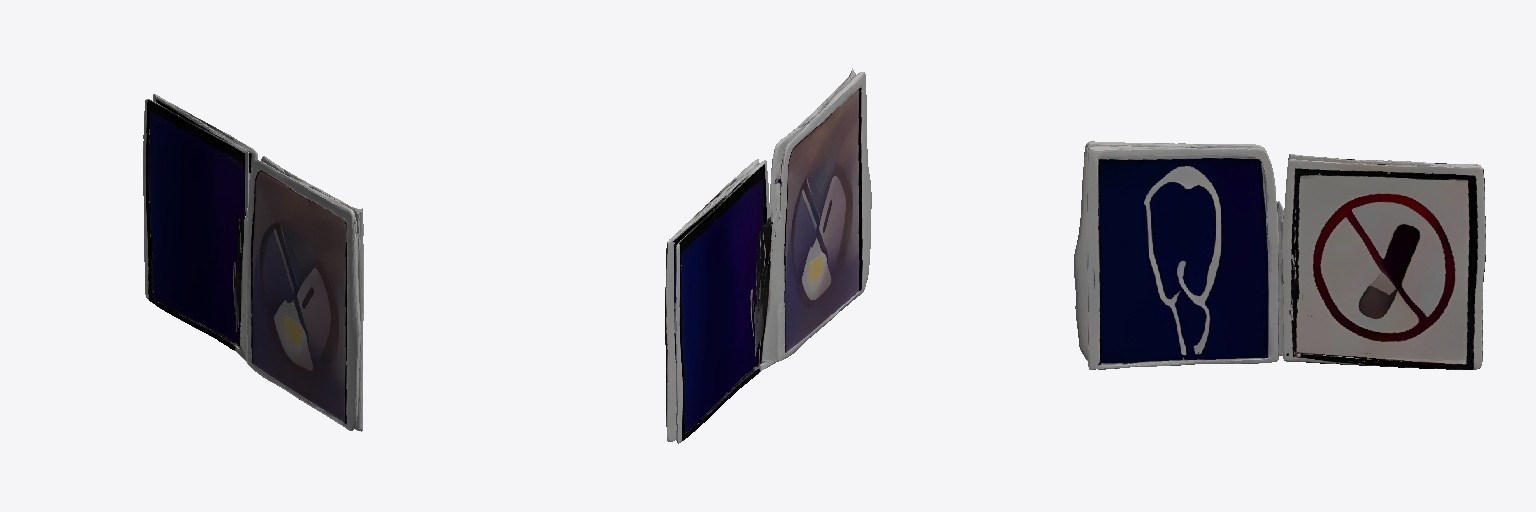
3 renders of one model, left to right at view 1: azimuth 30°, elevation 25°; view 2: azimuth 150°, elevation 25°; view 3: azimuth 270°, elevation 25°, orthographic.
Parts seen in each view (by area): view 1: tripo_node_46acc00b-5ba7-47a7-8205-1e72f[number redacted]; view 2: tripo_node_46acc00b-5ba7-47a7-8205-1e72f[number redacted]; view 3: tripo_node_46acc00b-5ba7-47a7-8205-1e72f[number redacted].
Part boxes in pixels (left/top/right/bottom): tripo_node_46acc00b-5ba7-47a7-8205-1e72f[number redacted]: left=143, top=94, right=363, bottom=431; tripo_node_46acc00b-5ba7-47a7-8205-1e72f[number redacted]: left=665, top=68, right=871, bottom=443; tripo_node_46acc00b-5ba7-47a7-8205-1e72f[number redacted]: left=1074, top=141, right=1485, bottom=369.
Bounding box in the file's own units: 0.065 × 0.614 × 0.9991.
1 materials, 1 textured.